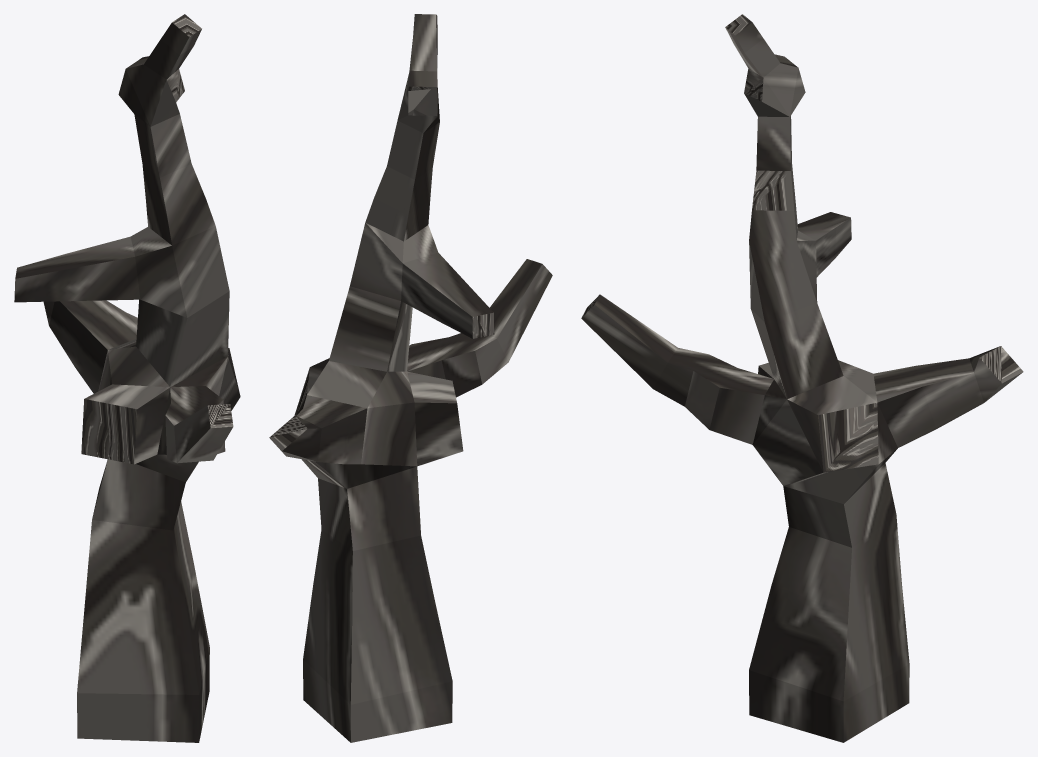
Rendered from acaciaTree_02.fbx.
3 views of the same model, side by side, from view 1: azimuth 30°, elevation 25°; view 2: azimuth 150°, elevation 25°; view 3: azimuth 270°, elevation 25° (orthographic). The views are drawn at different scales.
Visible parts, largest first — view 1: Plane.005; view 2: Plane.005; view 3: Plane.005.
Boxes of the visible parts, <box> form: Plane.005: <box>14,14,240,742</box>; Plane.005: <box>269,14,552,742</box>; Plane.005: <box>581,14,1023,742</box>.
Bounding box in the file's own units: 337 × 1061 × 619.
